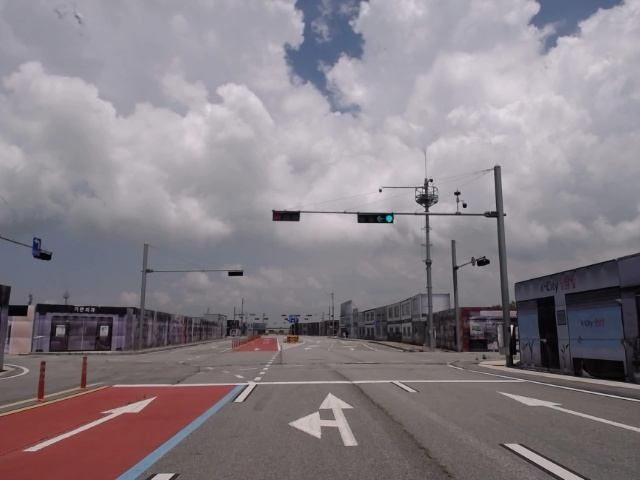all_green_4: (357, 214, 396, 222)
